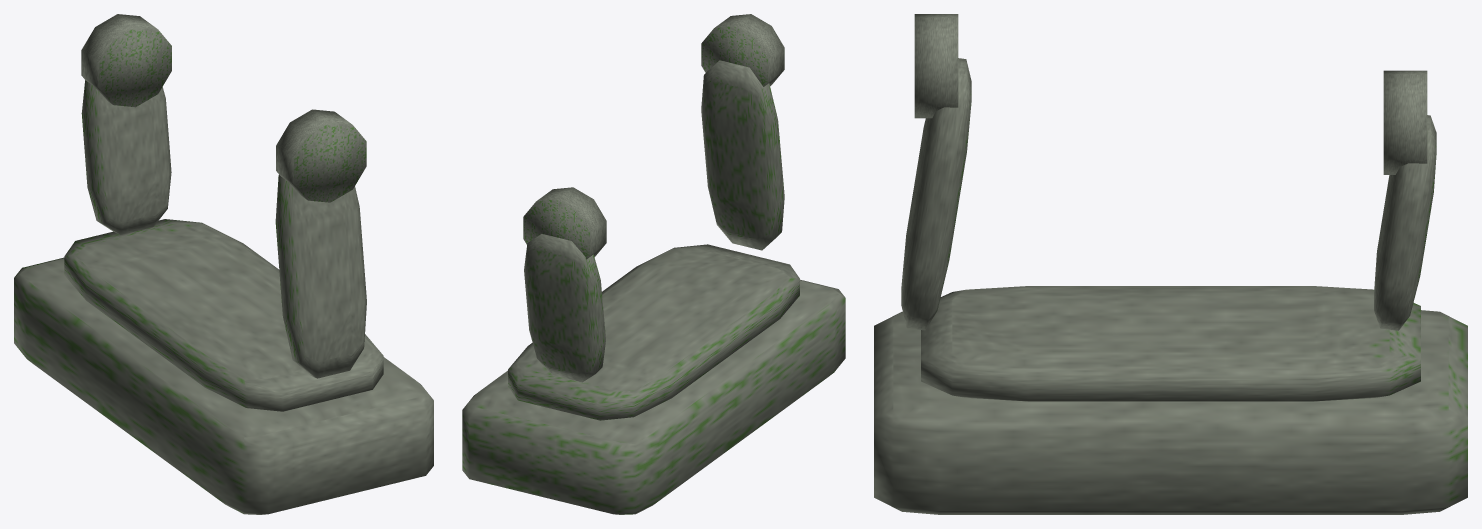
File: prop_nisan_kuno_a.glb
3 views of the same model, side by side, from view 1: azimuth 30°, elevation 25°; view 2: azimuth 150°, elevation 25°; view 3: azimuth 270°, elevation 25° (orthographic). The views are drawn at different scales.
Visible parts, largest first — view 1: nisan_kuno_a; view 2: nisan_kuno_a; view 3: nisan_kuno_a.
Part boxes in pixels (left/top/right/bottom): nisan_kuno_a: left=14, top=14, right=433, bottom=514; nisan_kuno_a: left=462, top=14, right=845, bottom=514; nisan_kuno_a: left=874, top=14, right=1467, bottom=514.
Bounding box in the file's own units: 0.9 × 1.57 × 1.9.
1 material, 1 textured.
